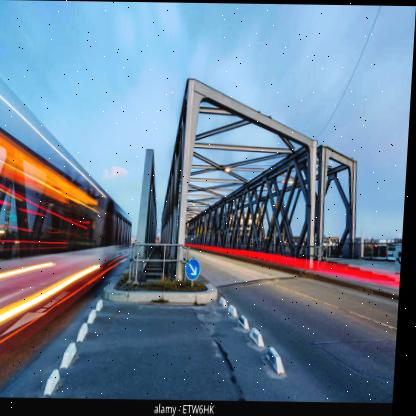Keep right: (188, 253, 205, 282)
